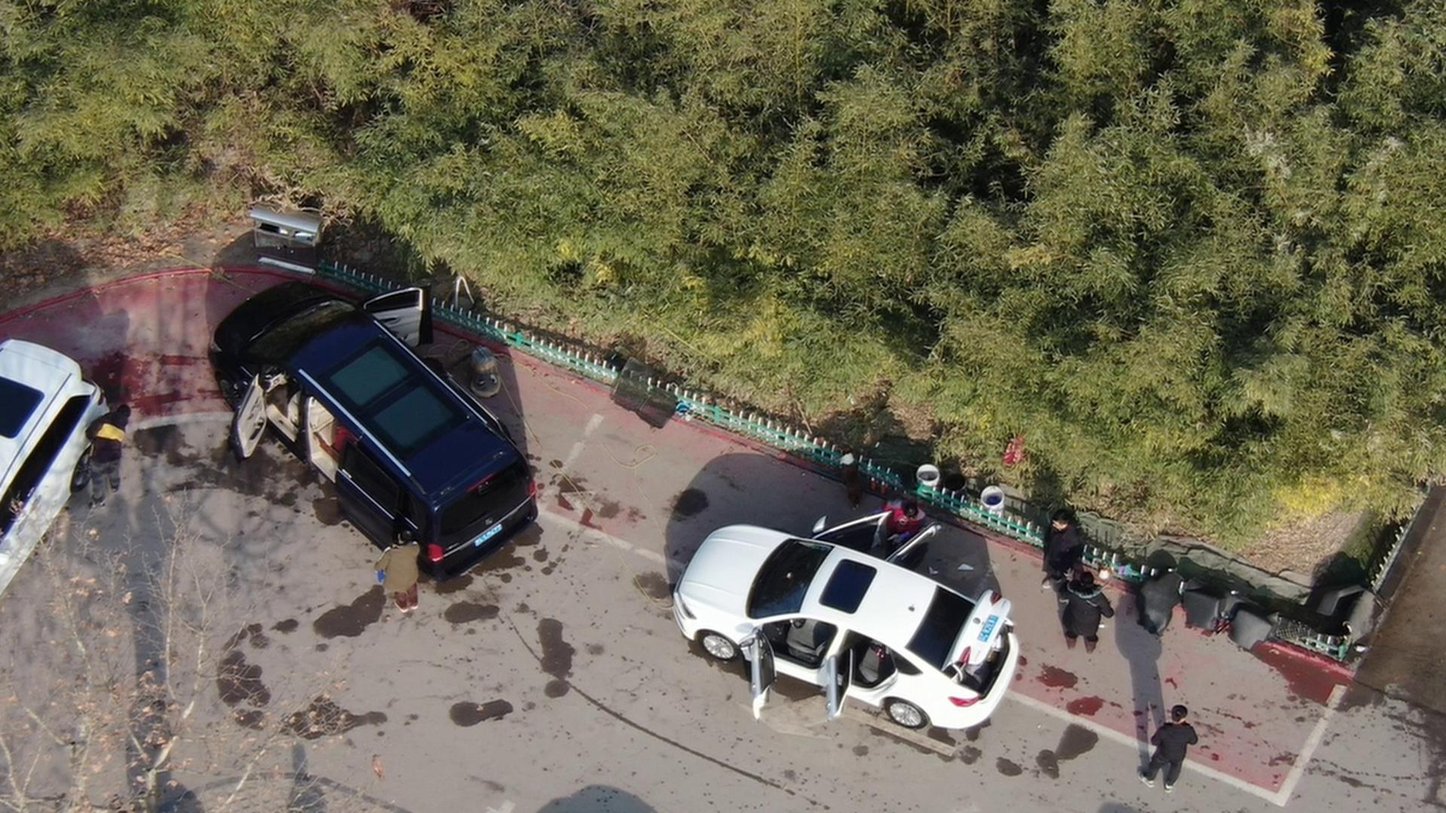human: (1133, 696, 1199, 781), (93, 402, 142, 511), (1054, 575, 1112, 654), (371, 534, 419, 617), (1044, 504, 1084, 582), (877, 495, 929, 547)
